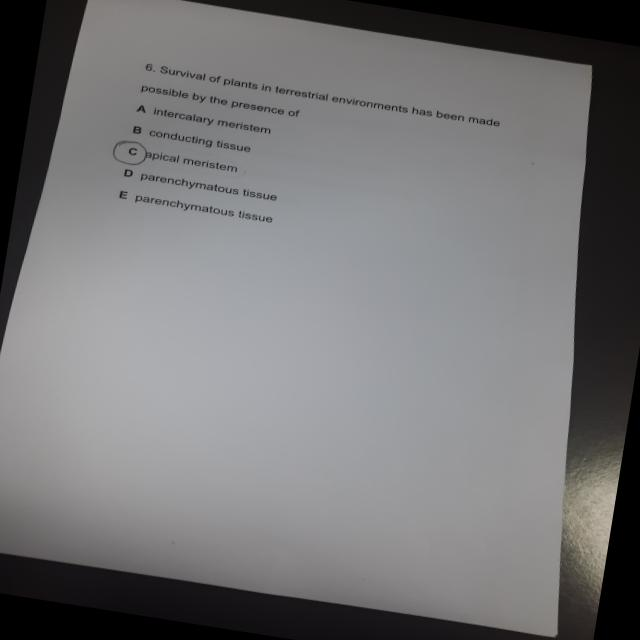C: (107, 136, 152, 170)
